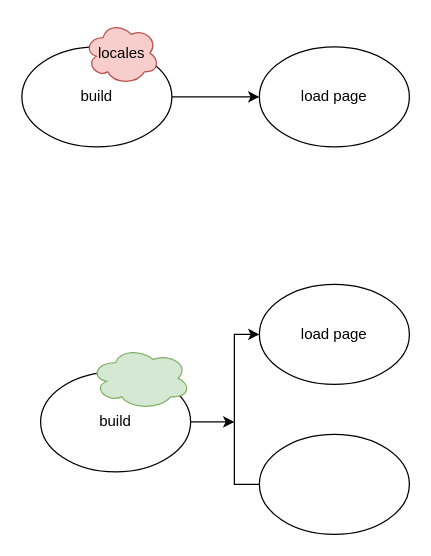
The diagram is 431 pixels wide and 556 high, and some of its shapes have lost their labels. Each missing label, with the centre of its shape:
"load locales" belongs at [333,483].
"no locales" belongs at [140,377].
